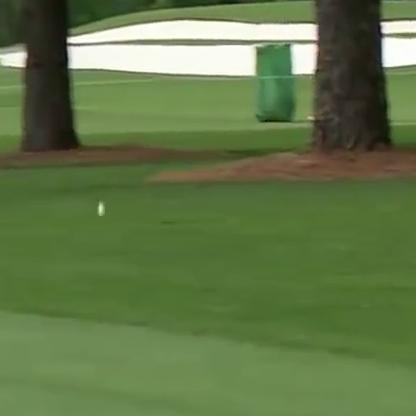golfball: (95, 193, 105, 212)
